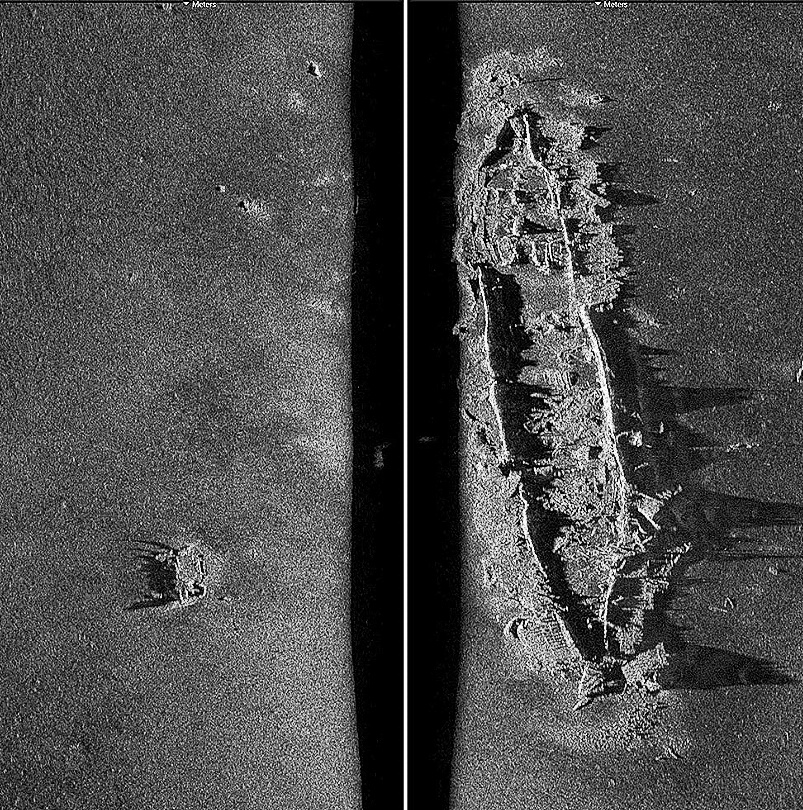ship: (465, 99, 700, 706)
